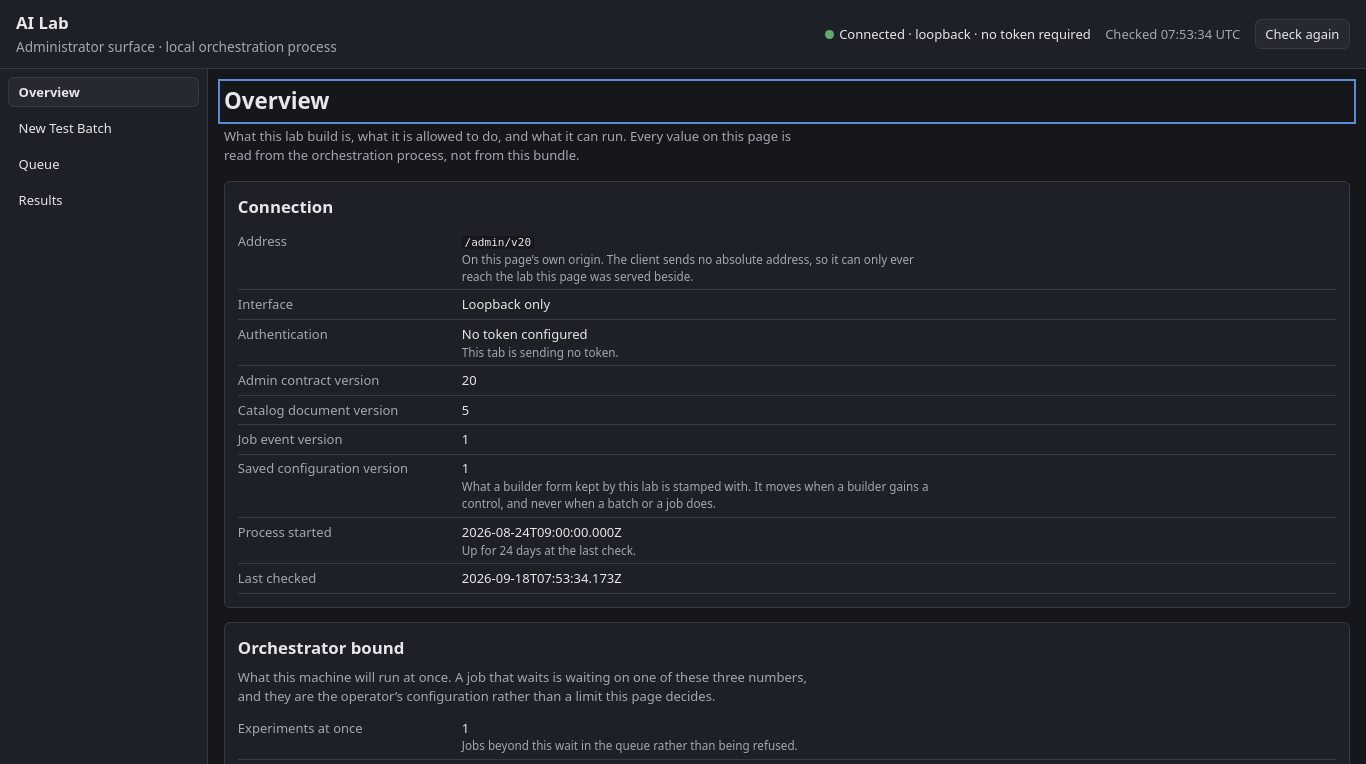
Scenario: the overview view › shows the exact matchup value in every heatmap cell, and a missing pair honestly
The width and height of the screenshot is (1366, 764).
Expected: the heading "Overview" is shown, [224,85,330,116]
Click the button "Results" at (104, 200), box [8,185,199,216]
(page scrolled)
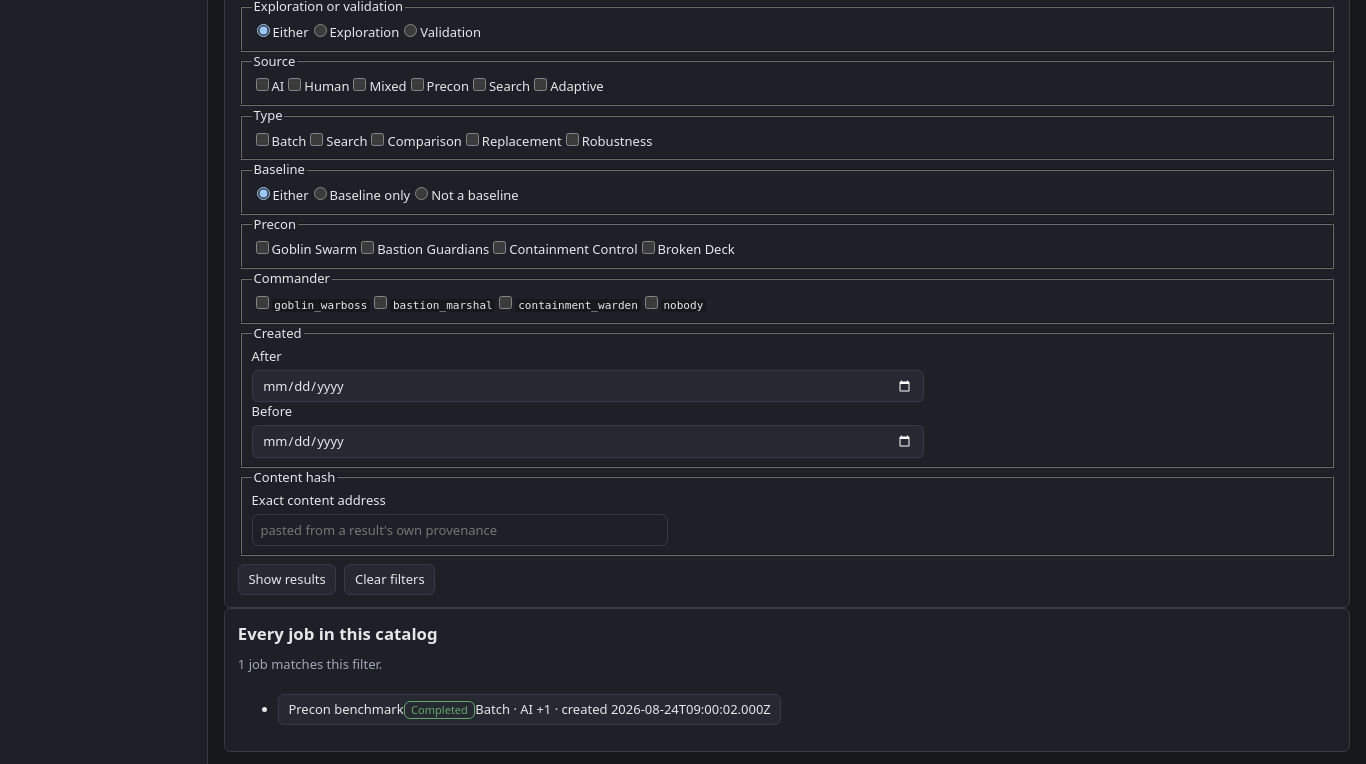
Click the button "Precon benchmark" at (530, 710), box [278,694,781,725]
(page scrolled)
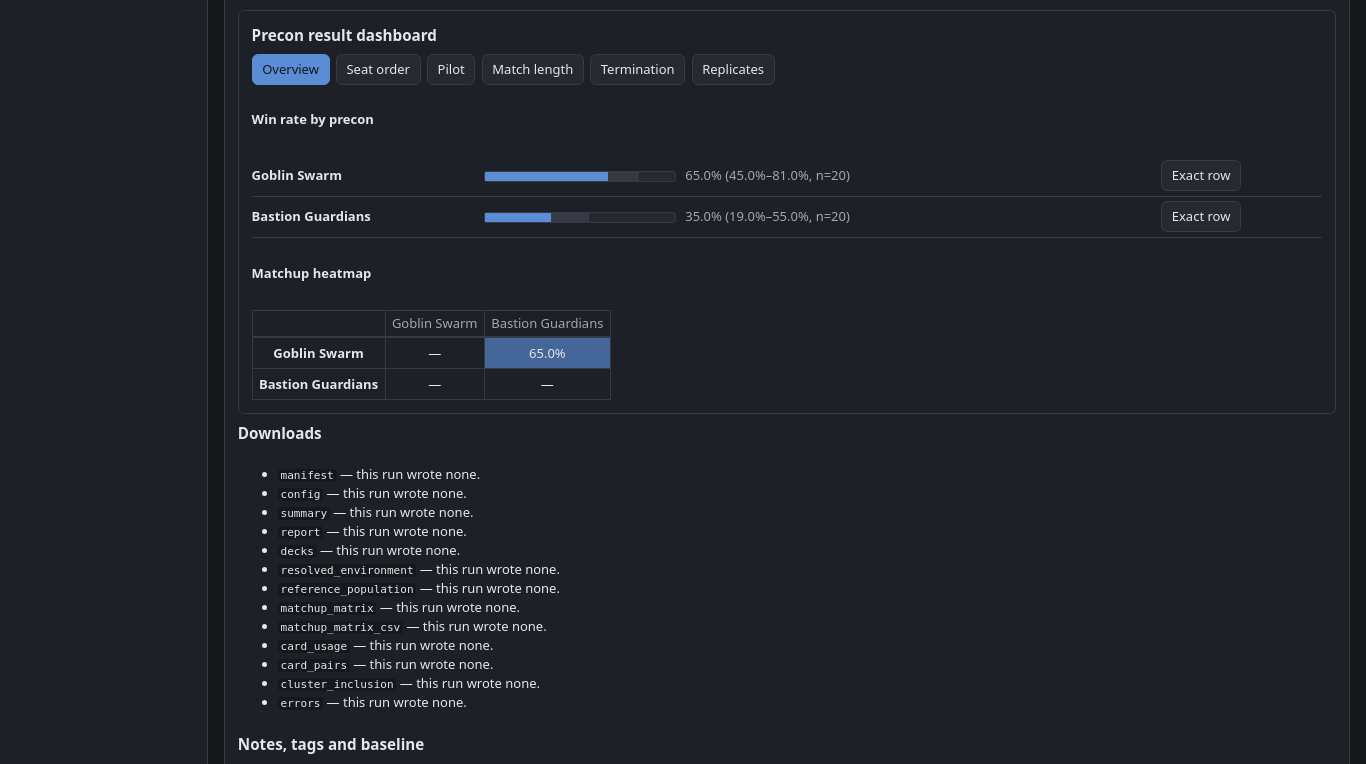
Now the heading "Precon result dashboard" is shown, box [252,25,437,45]
Now the button "65.0%" is shown, box [524,342,570,365]
Now the 2nd button "—" is shown, box [423,373,446,396]
